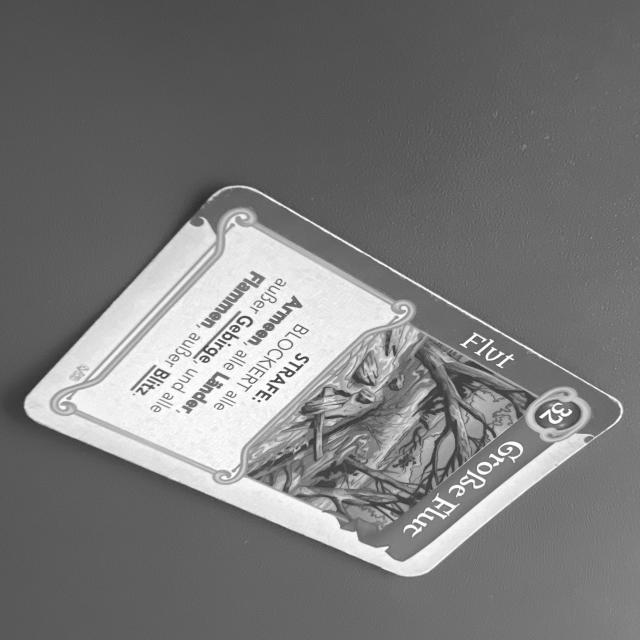Great Flood: (14, 173, 637, 582)
